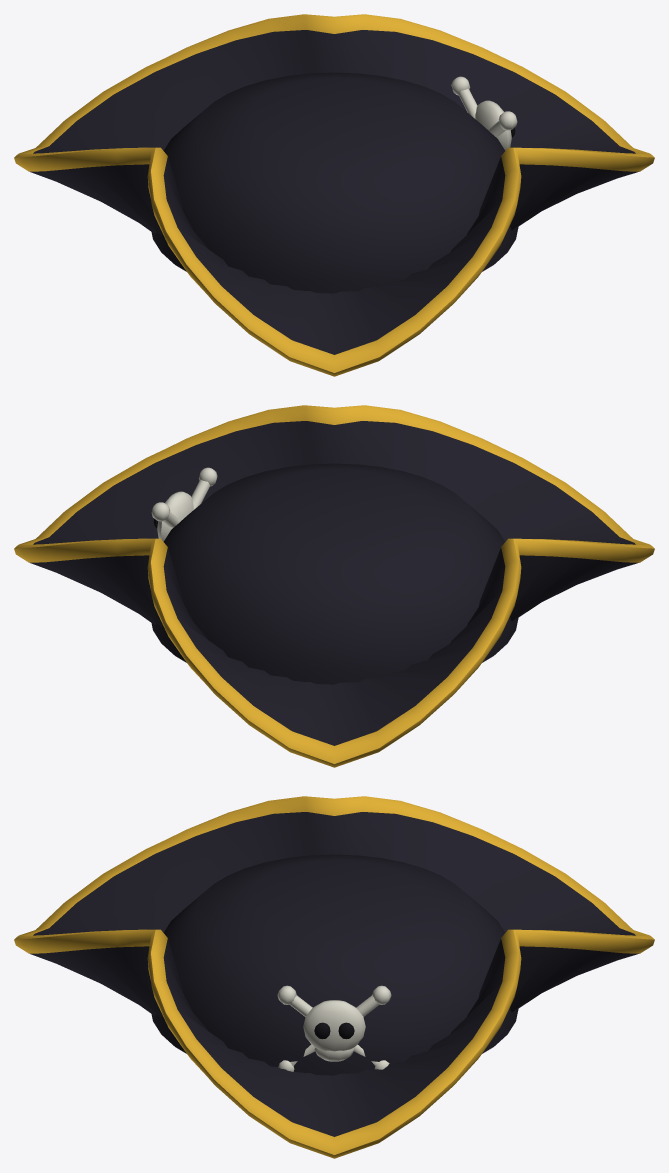
File: hat_pirate.glb
3 views of the same model, one above another, from view 1: azimuth 30°, elevation 25°; view 2: azimuth 150°, elevation 25°; view 3: azimuth 270°, elevation 25° (orthographic).
Visible parts, largest first — view 1: hat_pirate; view 2: hat_pirate; view 3: hat_pirate.
Boxes of the visible parts, x1=… form: hat_pirate: x1=14, y1=14, x2=654, y2=376; hat_pirate: x1=14, y1=405, x2=654, y2=767; hat_pirate: x1=14, y1=796, x2=654, y2=1158.
Size of the model in its own units: 0.8714 by 0.2075 by 0.9218.
